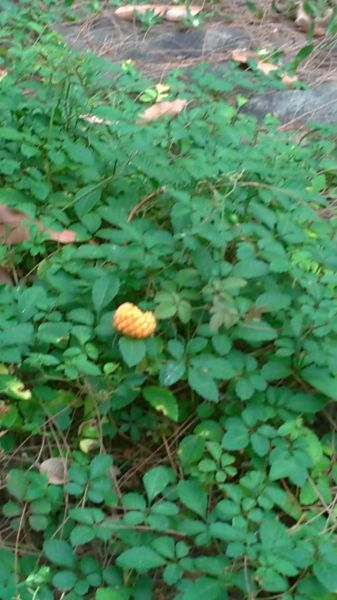eggs: (110, 300, 160, 342)
